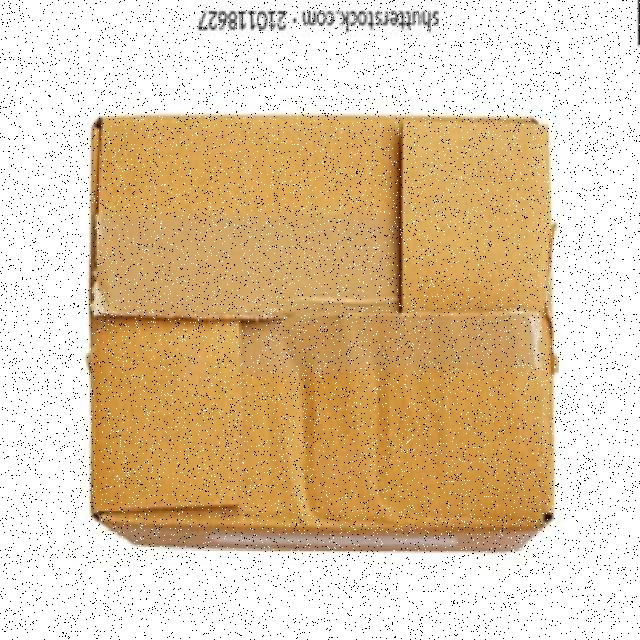normal: (82, 108, 569, 562)
